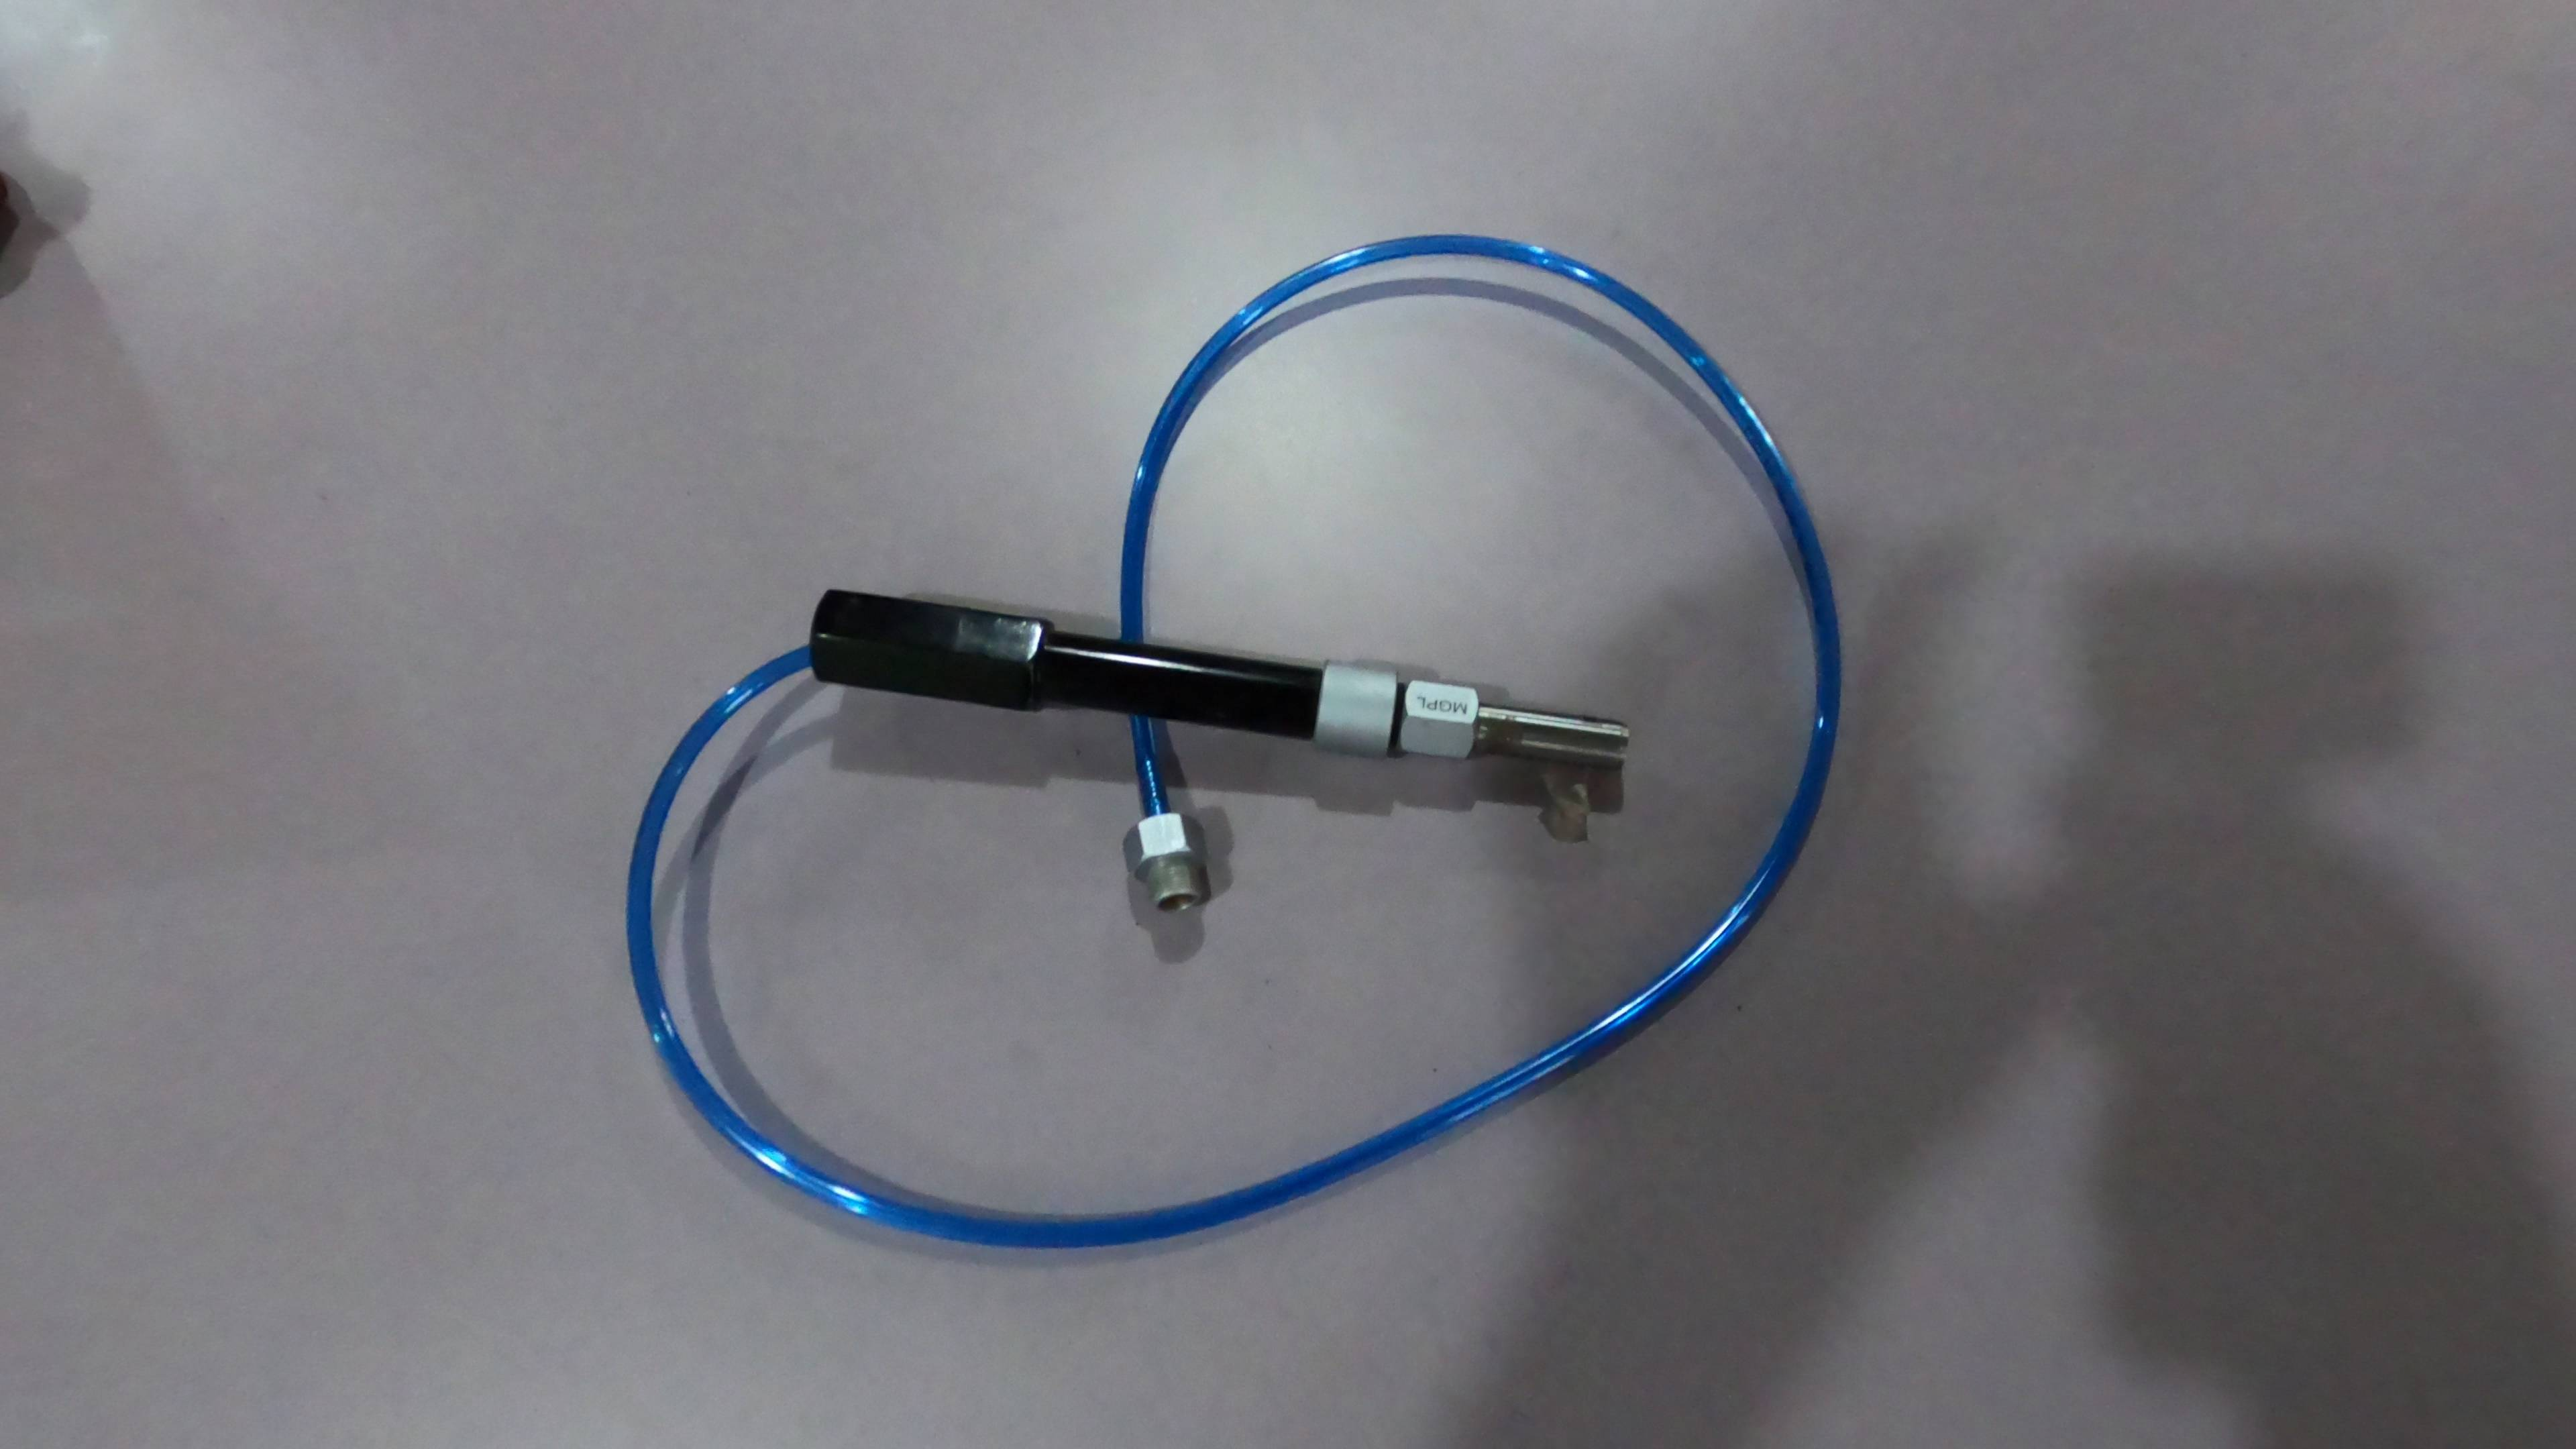air_gauge: (796, 579, 1633, 805)
